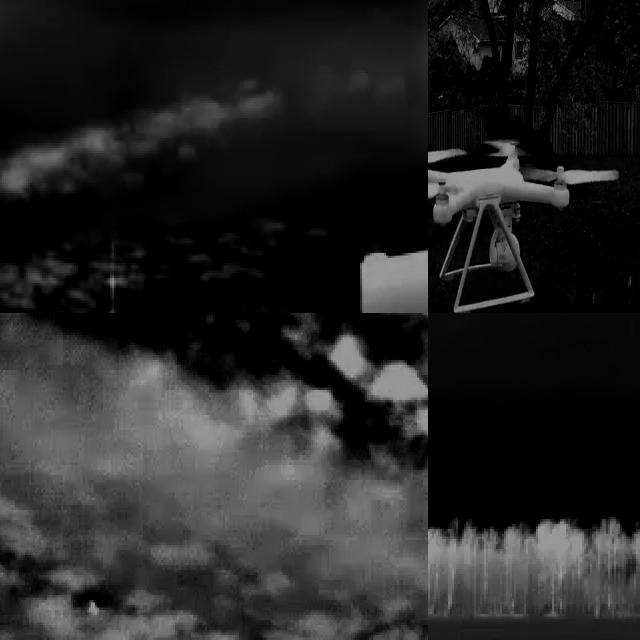0: (75, 595, 123, 630)
drone: (428, 142, 612, 313)
